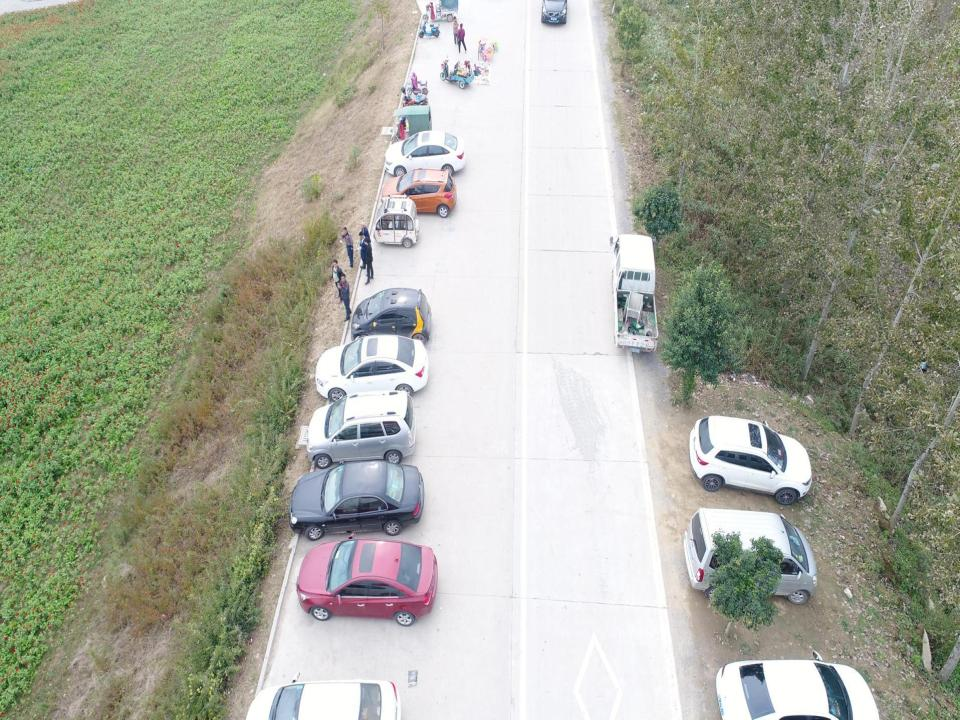car: (294, 531, 436, 631), (285, 458, 423, 542), (687, 412, 812, 504), (712, 652, 882, 719), (302, 388, 414, 472), (303, 393, 417, 465), (311, 332, 430, 397), (239, 672, 403, 719), (352, 284, 432, 347), (380, 166, 457, 219), (383, 132, 466, 178)
truck: (605, 230, 664, 353)
van: (683, 501, 817, 606)
